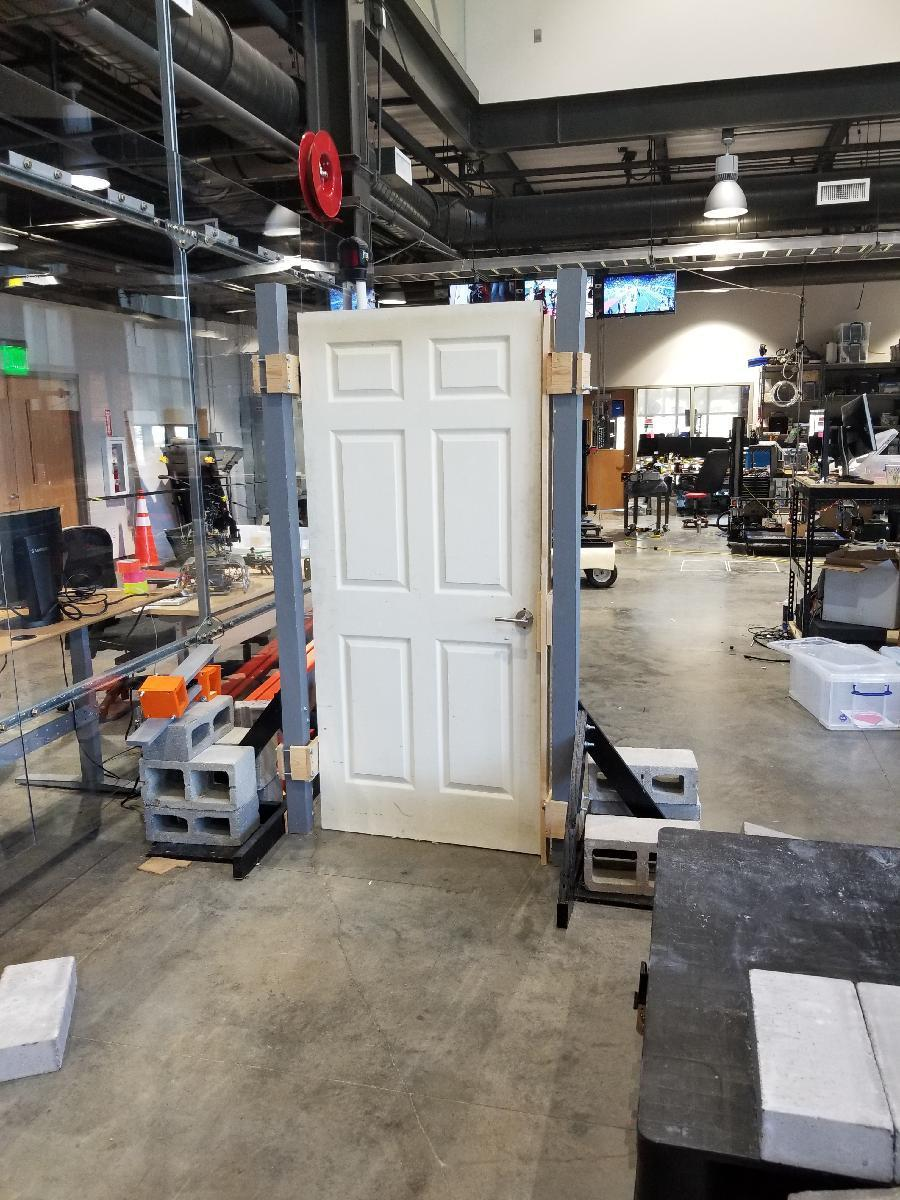door: (294, 303, 550, 853), (6, 372, 82, 561), (588, 385, 635, 510)
handle: (492, 605, 536, 629)
